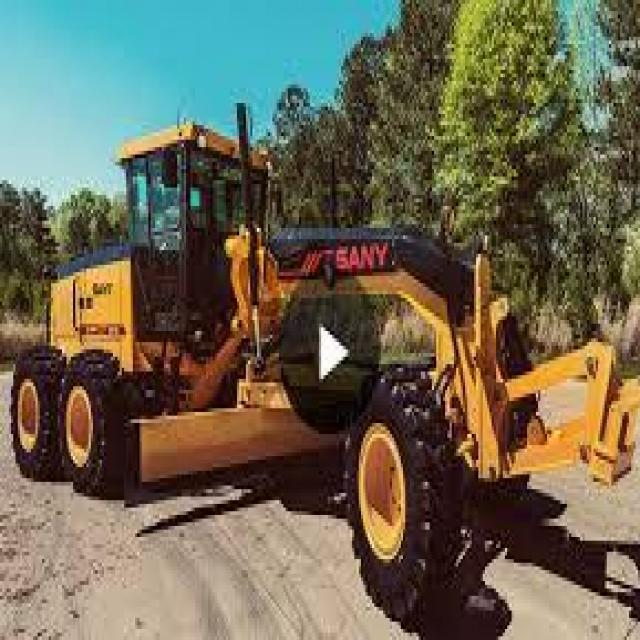Grader: (18, 78, 638, 636)
